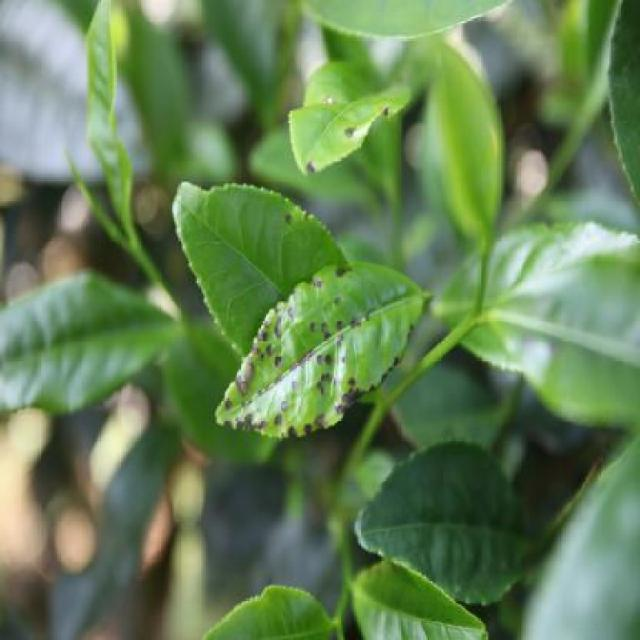Tea Mosquito bug infested leaf: (210, 262, 424, 462)
